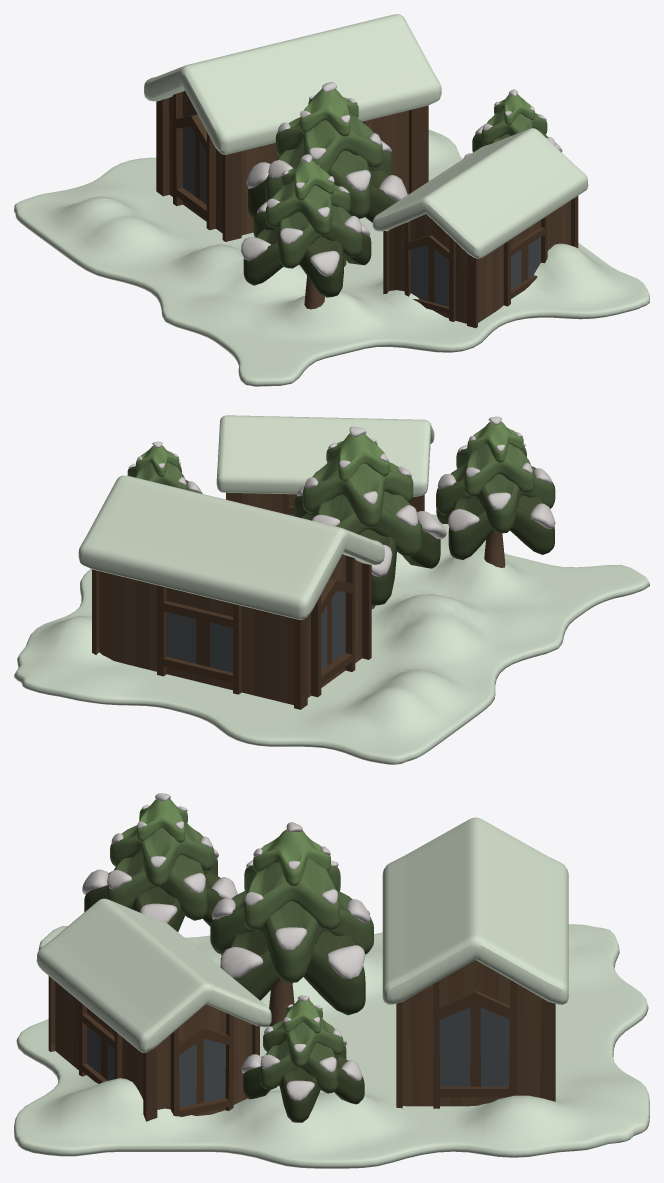
File: Cabin3.fbx
The picture shows the model from 3 angles, top to bottom: view 1: azimuth 30°, elevation 25°; view 2: azimuth 150°, elevation 25°; view 3: azimuth 270°, elevation 25°; orthographic projection. The views are drawn at different scales.
Parts seen in each view (by area): view 1: group15_pasted__pCube72; view 2: group15_pasted__pCube72; view 3: group15_pasted__pCube72.
Boxes of the visible parts, x1,y1,x2,y2 form: group15_pasted__pCube72: [14, 14, 649, 386]; group15_pasted__pCube72: [14, 415, 649, 764]; group15_pasted__pCube72: [14, 793, 649, 1168].
Bounding box in the file's own units: 7.62 × 3.21 × 8.57.
